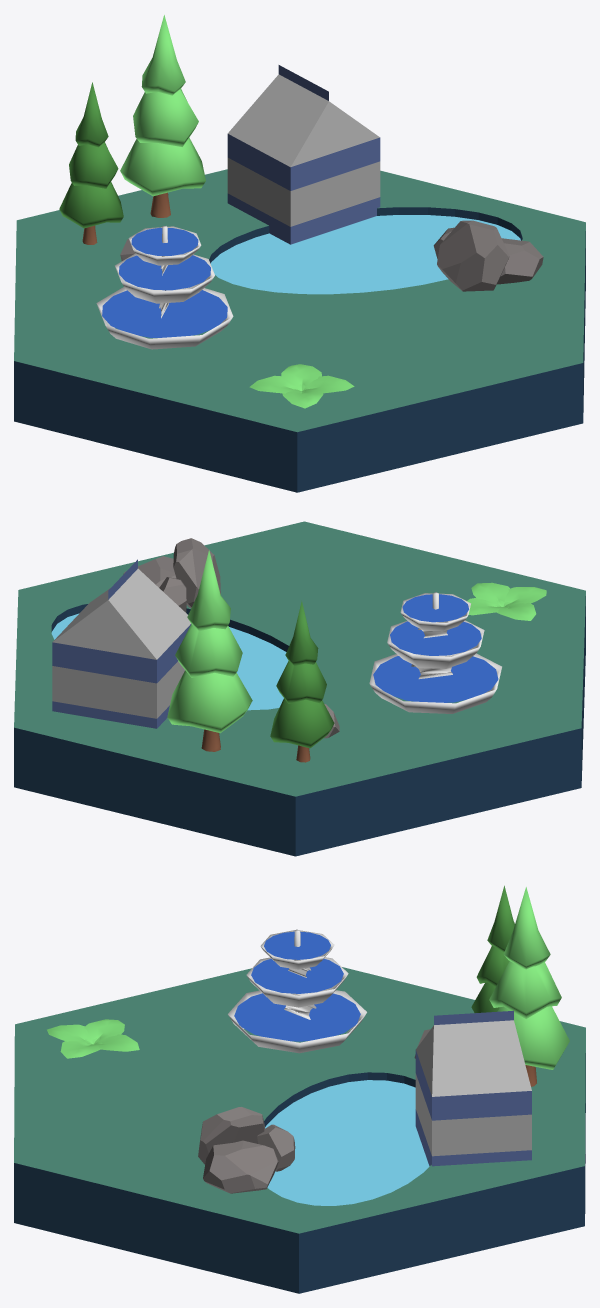
Rendered from Macro - Townhall lvl 456 Water Land rev.fbx.
The picture shows the model from 3 angles, top to bottom: view 1: azimuth 30°, elevation 25°; view 2: azimuth 150°, elevation 25°; view 3: azimuth 270°, elevation 25°; orthographic projection.
Visible parts, largest first — view 1: Cylinder.050, milkbox2.001, Cylinder.052, Cube.018, Tree_Spruce_tiny_01.008, Rock Type2 02 mesh.008, Tree_Spruce_tiny_01.007, Plane.003; view 2: Cylinder.050, milkbox2.001, Cube.018, Tree_Spruce_tiny_01.008, Tree_Spruce_tiny_01.007, Cylinder.052, Rock Type2 02 mesh.008, Plane.003; view 3: Cylinder.050, milkbox2.001, Cylinder.052, Cube.018, Tree_Spruce_tiny_01.008, Rock Type2 02 mesh.008, Plane.003, Tree_Spruce_tiny_01.007.
Boxes of the visible parts, x1,y1,x2,y2 form: Cylinder.050: [14, 169, 585, 492]; milkbox2.001: [227, 65, 380, 244]; Cylinder.052: [210, 215, 520, 294]; Cube.018: [96, 225, 233, 349]; Tree_Spruce_tiny_01.008: [120, 15, 205, 217]; Rock Type2 02 mesh.008: [433, 220, 543, 291]; Tree_Spruce_tiny_01.007: [59, 82, 123, 244]; Plane.003: [249, 364, 354, 408]; Cylinder.050: [14, 521, 585, 856]; milkbox2.001: [52, 559, 191, 728]; Cube.018: [369, 592, 501, 713]; Tree_Spruce_tiny_01.008: [167, 550, 252, 751]; Tree_Spruce_tiny_01.007: [270, 600, 334, 762]; Cylinder.052: [51, 613, 288, 710]; Rock Type2 02 mesh.008: [123, 538, 220, 612]; Plane.003: [467, 582, 546, 620]; Cylinder.050: [14, 967, 585, 1293]; milkbox2.001: [415, 1010, 531, 1166]; Cylinder.052: [265, 1080, 429, 1205]; Cube.018: [228, 929, 366, 1053]; Tree_Spruce_tiny_01.008: [489, 887, 569, 1086]; Rock Type2 02 mesh.008: [198, 1107, 295, 1193]; Plane.003: [47, 1019, 139, 1058]; Tree_Spruce_tiny_01.007: [471, 885, 514, 1012].
Size of the model in its own units: 197 by 85.91 by 172.
